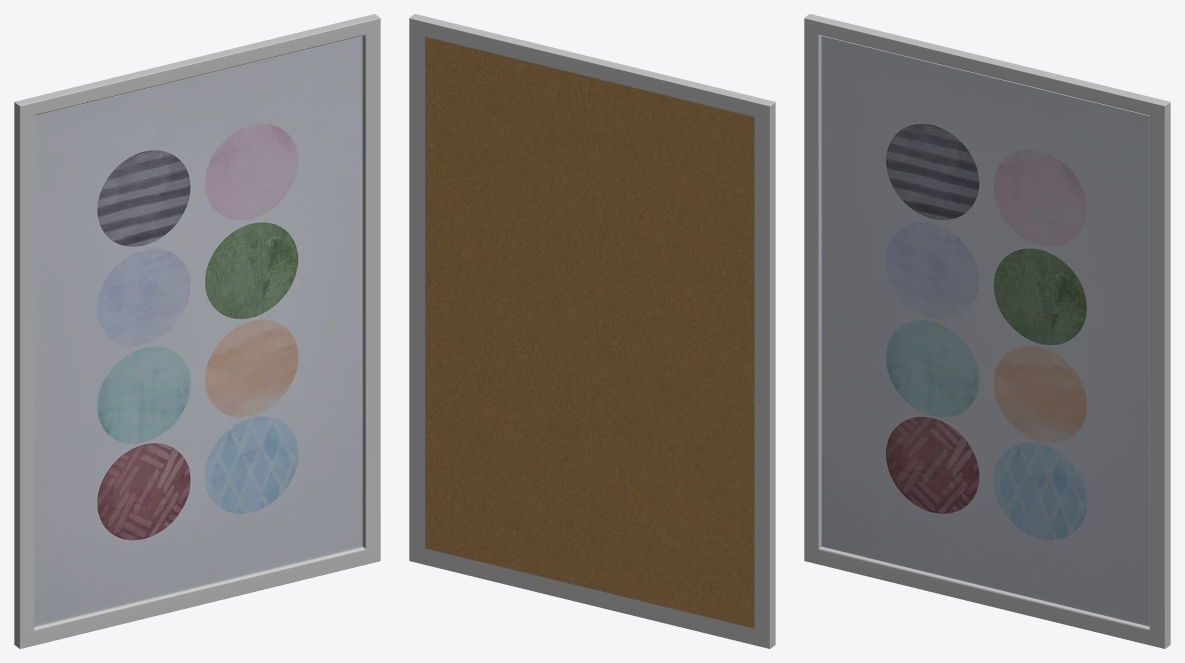
File: abo-B073P1BJJD.glb
The picture shows the model from 3 angles, left to right: view 1: azimuth 30°, elevation 25°; view 2: azimuth 150°, elevation 25°; view 3: azimuth 330°, elevation 25°; orthographic projection.
Bounding box in the file's own units: 0.457 × 0.657 × 0.013.
1 material, 1 textured.
